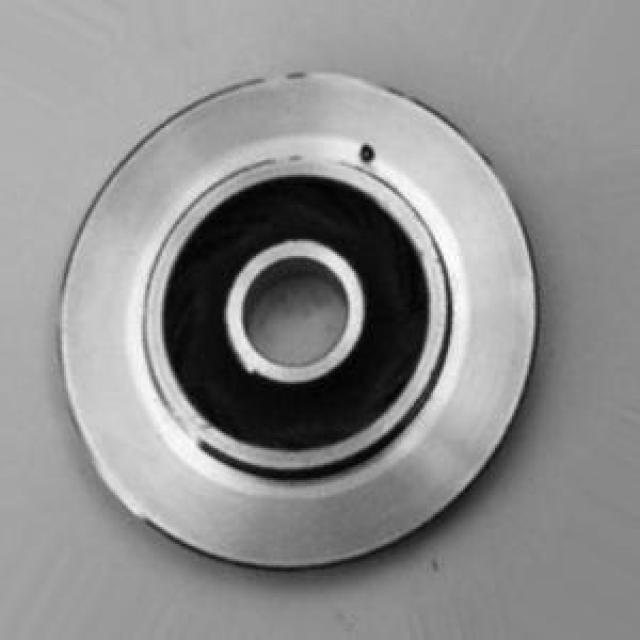Defect: (353, 135, 381, 170)
